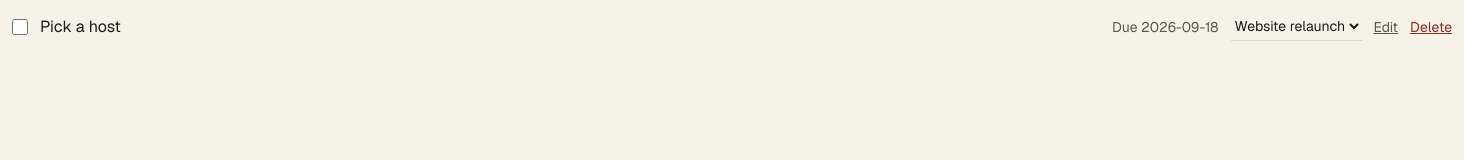
Test case: TaskList › leaves the task alone when the edit is cancelled
Click the button named "Edit “Pick a host”" at (1386, 26), box x1=1374 y1=16 x2=1398 y2=36
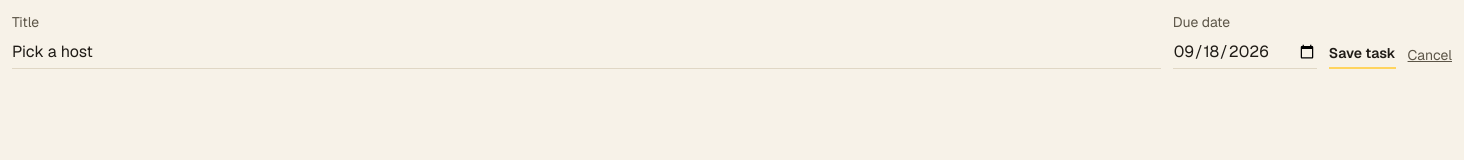
Replace the text in the field labelled "Title" with "Something else" at (586, 52), box x1=12 y1=36 x2=1161 y2=69
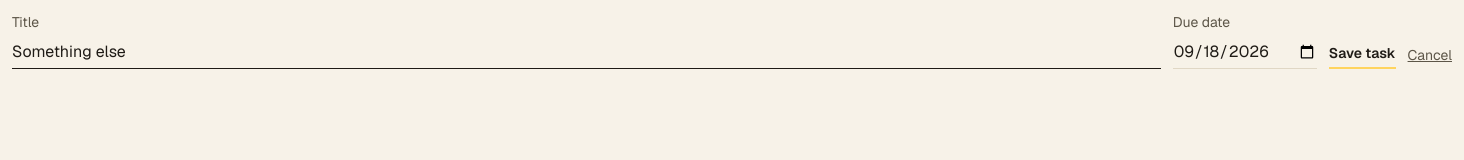
Click the button "Cancel" at (1430, 55), box x1=1408 y1=41 x2=1452 y2=69
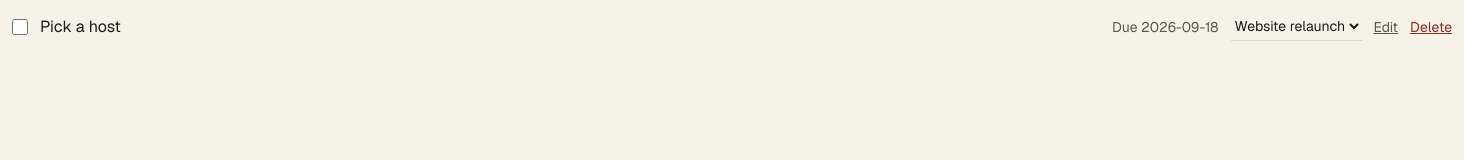
Check: the checkbox labelled "Pick a host" is shown, box x1=12 y1=18 x2=28 y2=34
